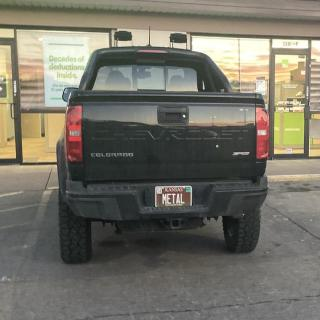license: (156, 187, 193, 209)
